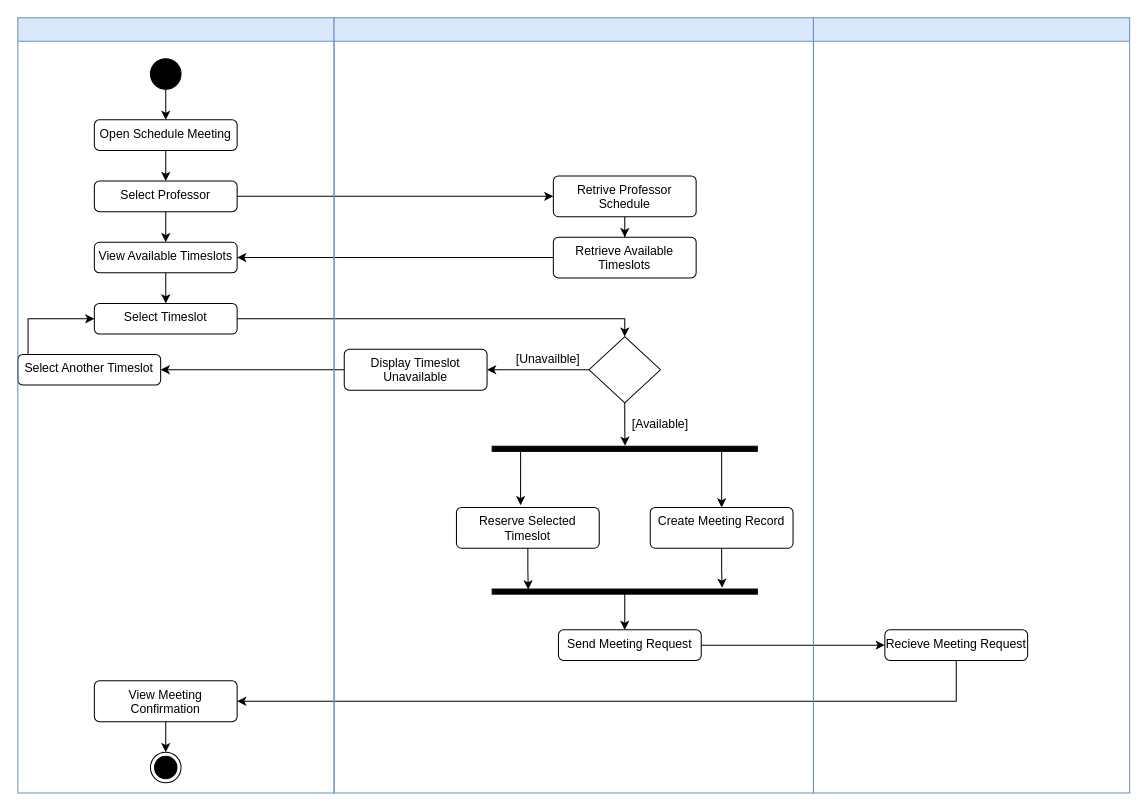
The diagram is 1148 pixels wide and 811 high, and some of its shapes have lost their labels. The box of each missing label's shape, as (x1, y1, x2, y2) in pixels:
Professor: (812, 17, 1130, 793)
Student: (17, 17, 334, 793)
System: (333, 17, 813, 793)
